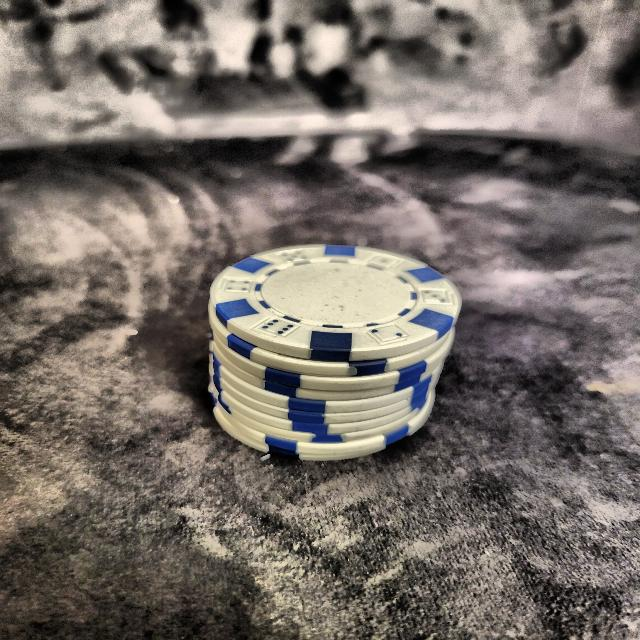Chip: (182, 221, 483, 463)
